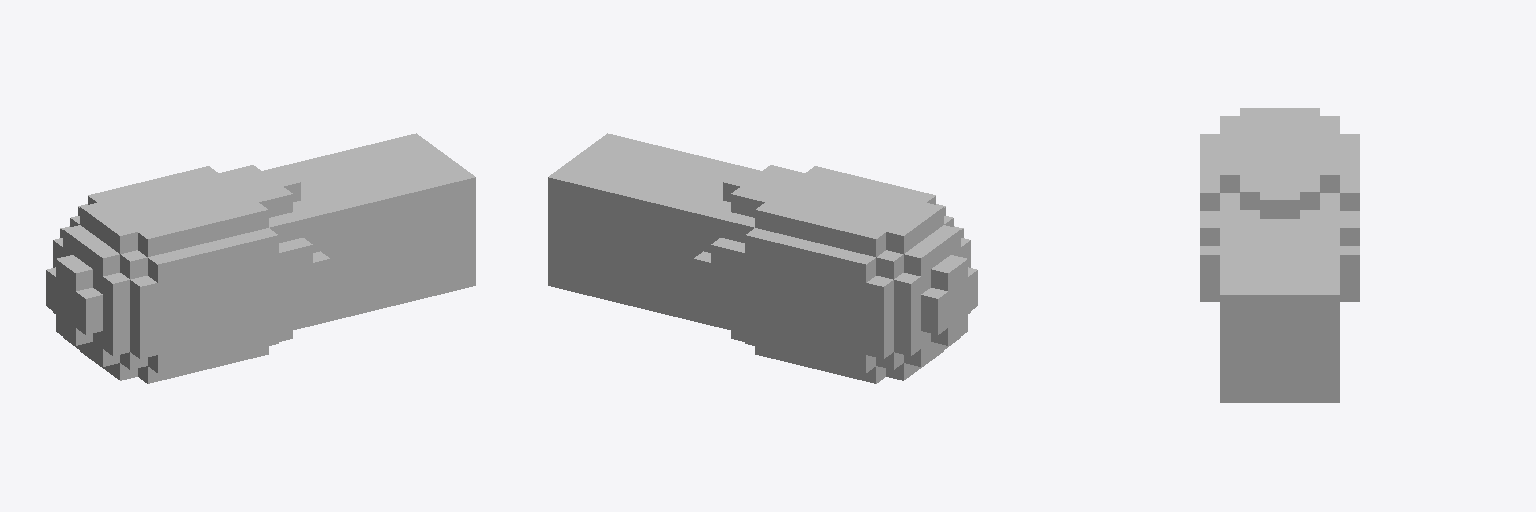
File: Simple Charapter-1-Brazo Hombro.obj
3 views of the same model, side by side, from view 1: azimuth 30°, elevation 25°; view 2: azimuth 150°, elevation 25°; view 3: azimuth 270°, elevation 25° (orthographic).
Visible parts, largest first — view 1: Brazo Hombro; view 2: Brazo Hombro; view 3: Brazo Hombro.
Part boxes in pixels (left/top/right/bottom): Brazo Hombro: left=46, top=133, right=475, bottom=383; Brazo Hombro: left=548, top=133, right=977, bottom=383; Brazo Hombro: left=1200, top=108, right=1359, bottom=402.
Size of the model in its own units: 2.2 by 0.8 by 0.8.